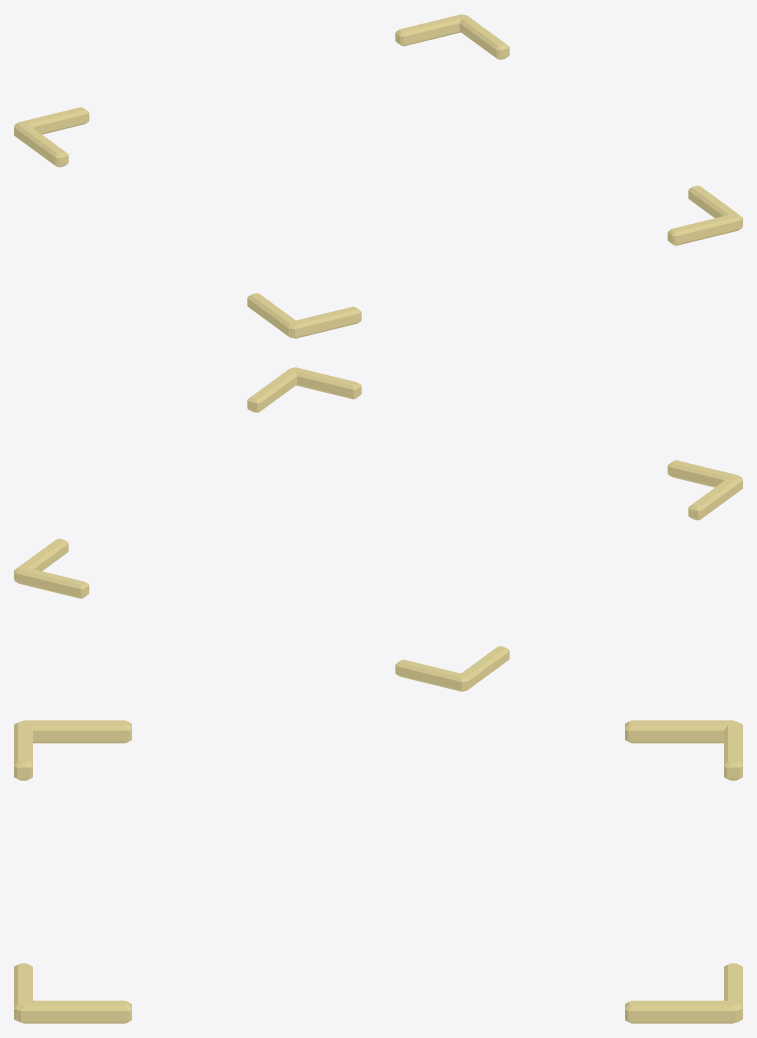
The model's file is selection.glb.
3 renders of one model, top to bottom at view 1: azimuth 30°, elevation 25°; view 2: azimuth 150°, elevation 25°; view 3: azimuth 270°, elevation 25°, orthographic. The views are drawn at different scales.
Visible parts, largest first — view 1: Auswahl · Leuchtende Beetecken; view 2: Auswahl · Leuchtende Beetecken; view 3: Auswahl · Leuchtende Beetecken.
Part boxes in pixels (x1,y1,x2,y2): Auswahl · Leuchtende Beetecken: (14, 14, 742, 338); Auswahl · Leuchtende Beetecken: (14, 367, 742, 691); Auswahl · Leuchtende Beetecken: (14, 720, 742, 1023).
Size of the model in its own units: 1.5 by 0.044 by 1.6.
